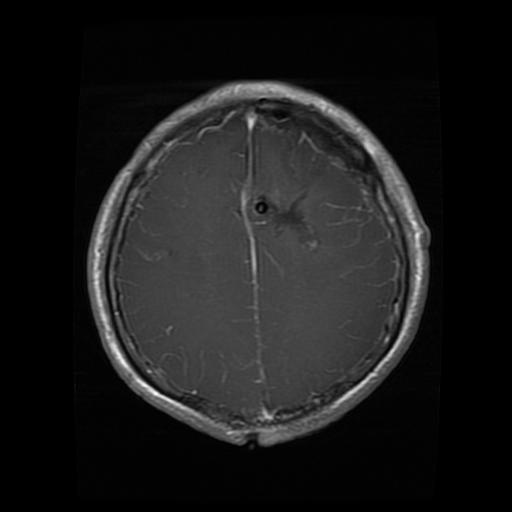Gliomia_tumour: (269, 190, 319, 249)
